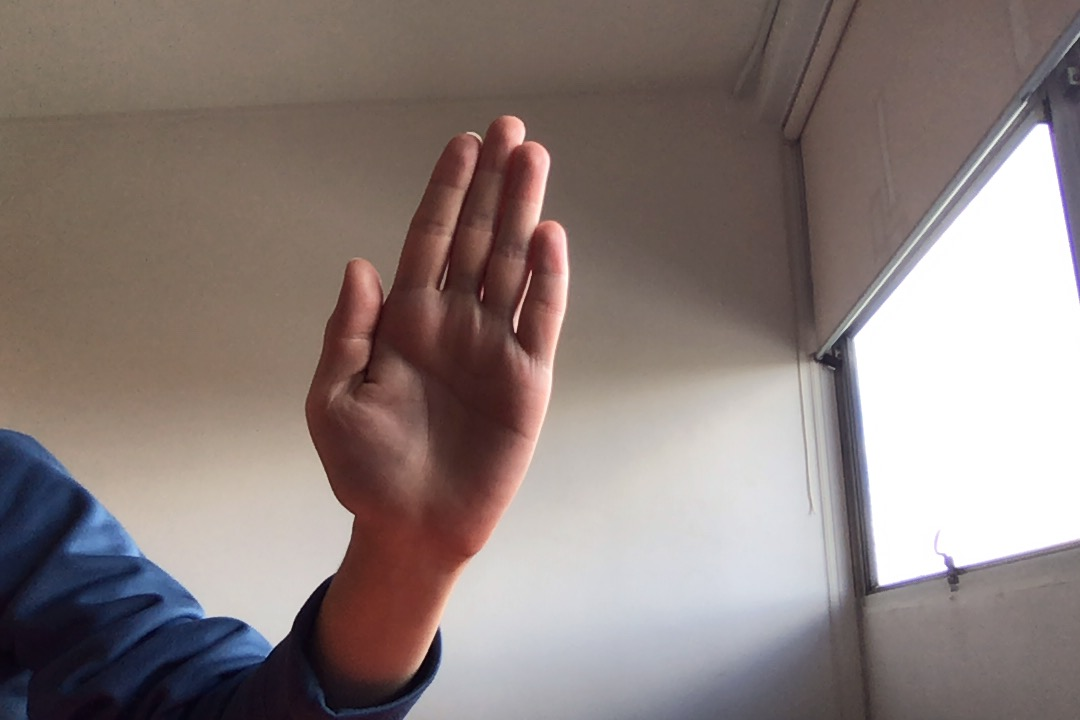palmhand: (301, 108, 578, 568)
